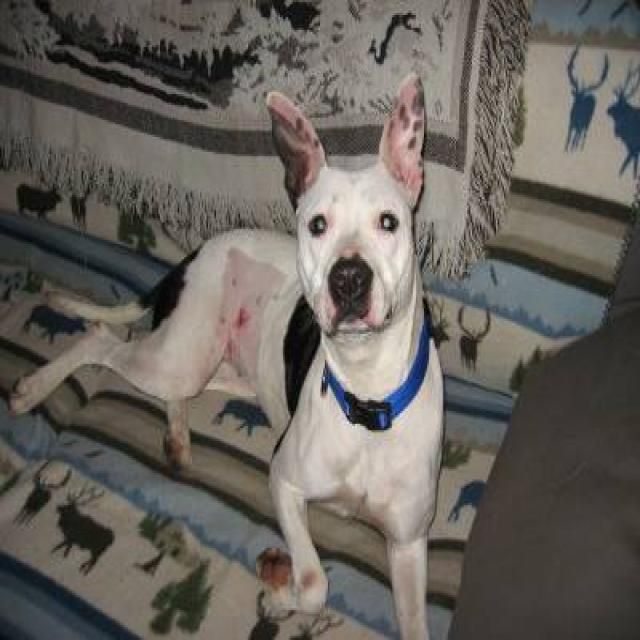dog: (8, 70, 445, 638)
